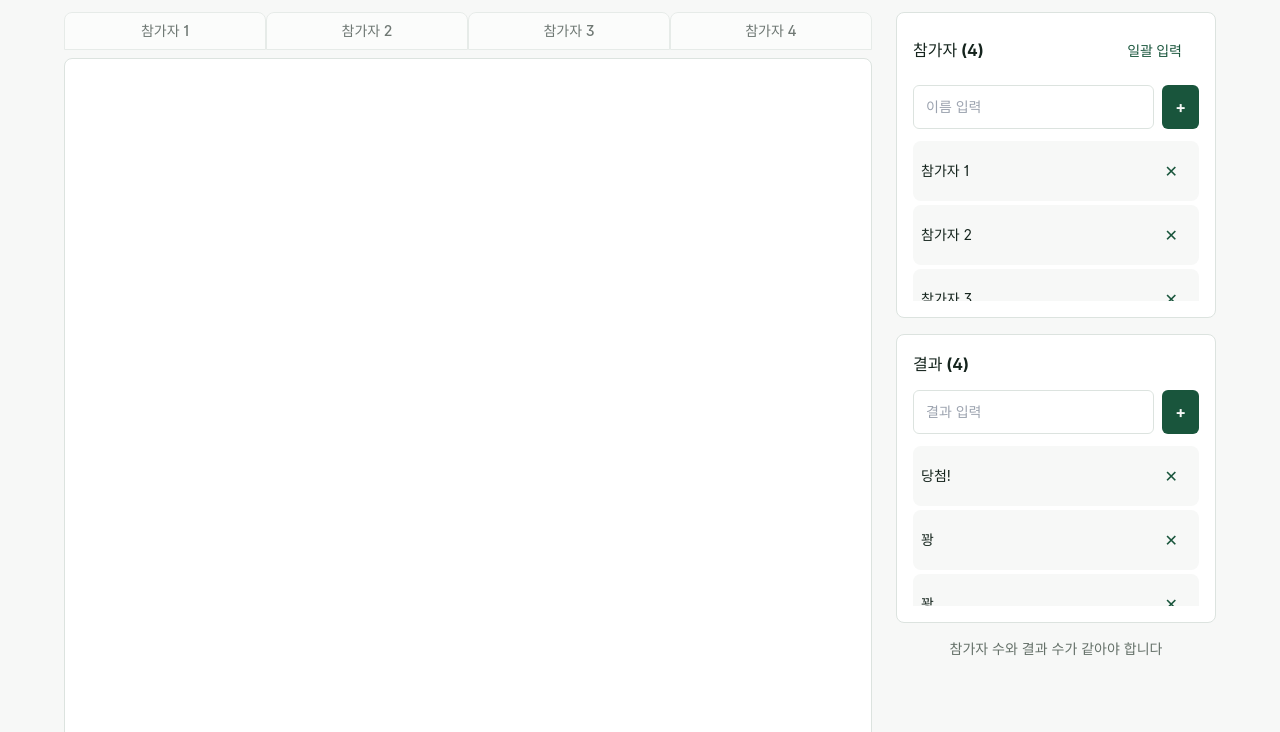
Test: game field labels and selected states › provides associated labels for ladder fields
This screenshot has width=1280, height=732.
Check: the field labelled "이름 입력" is shown, box x1=913 y1=85 x2=1154 y2=129
Check: the field labelled "결과 입력" is shown, box x1=913 y1=390 x2=1154 y2=434
Click the button "일괄 입력" at [1155, 51], box x1=1110 y1=29 x2=1199 y2=73
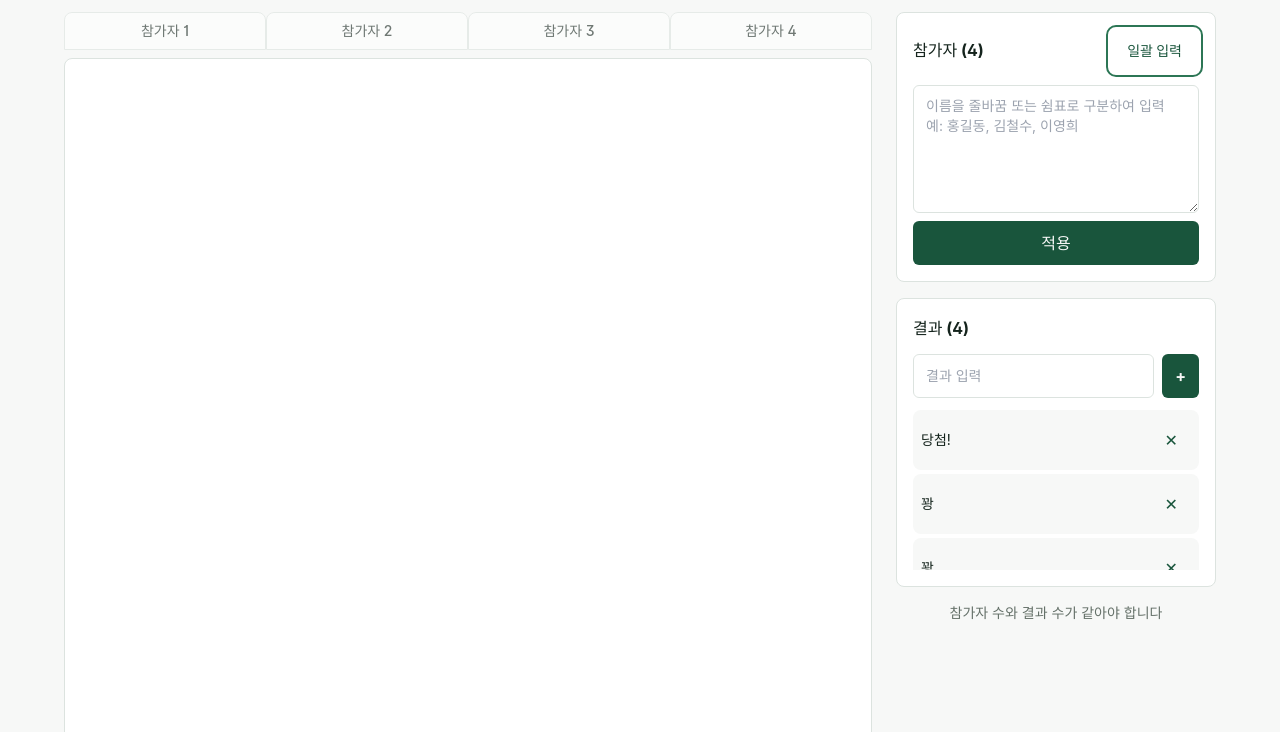
Check: the text box named "참가자 일괄 입력" is shown, box x1=913 y1=85 x2=1199 y2=213
